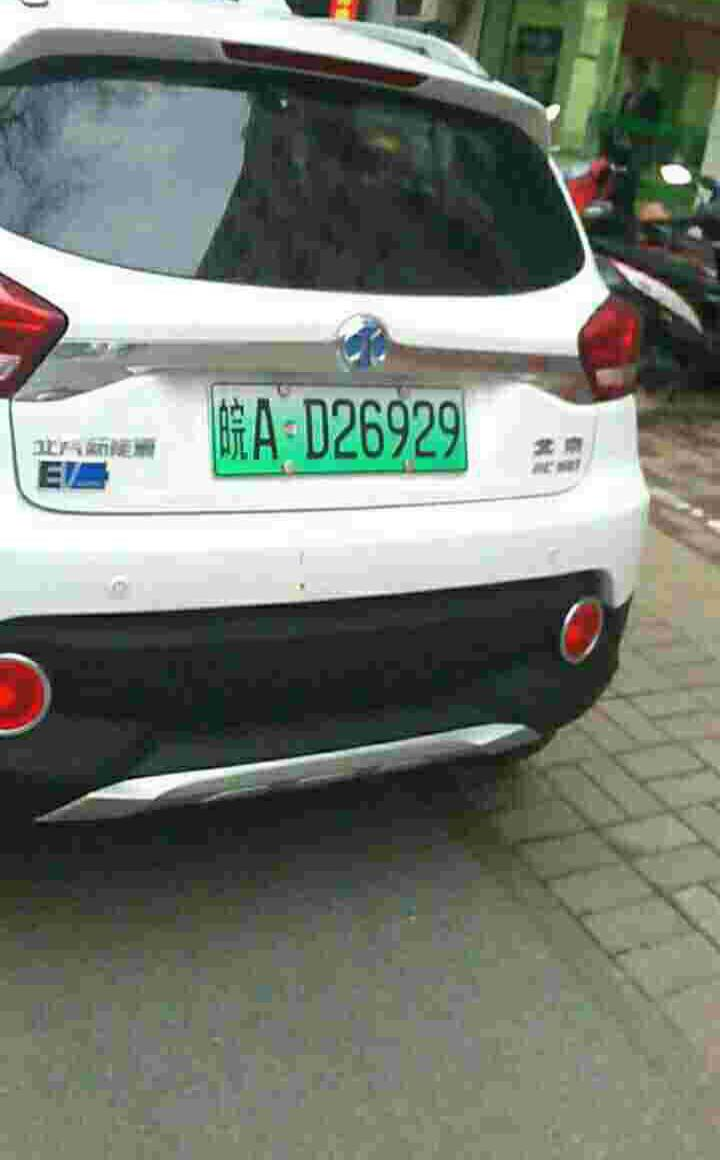car: (203, 377, 468, 472)
